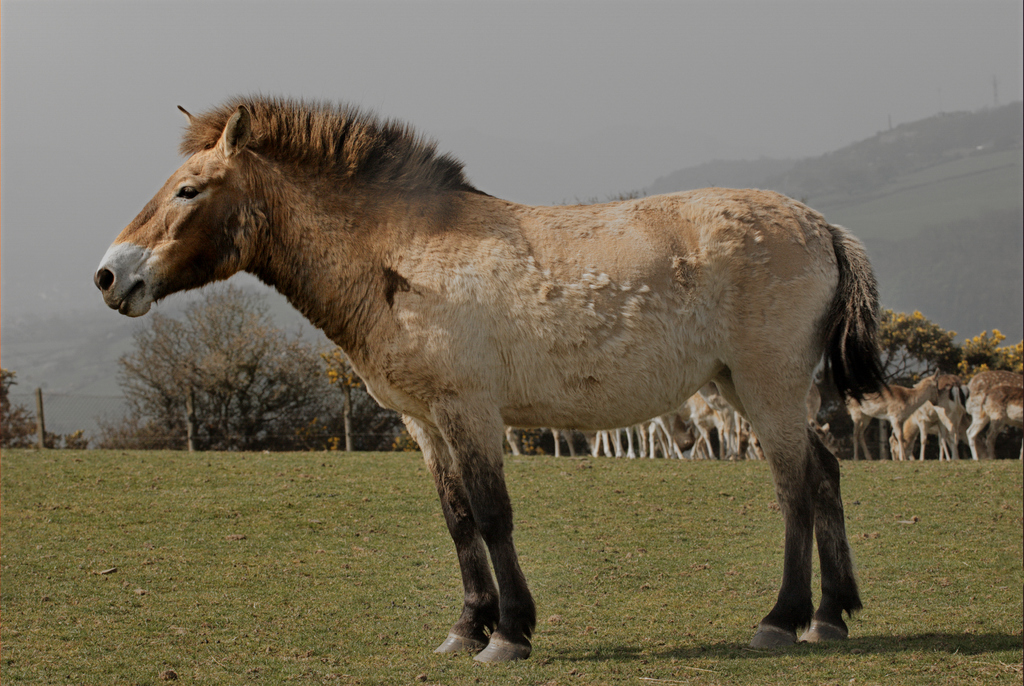horse: (92, 86, 893, 663)
